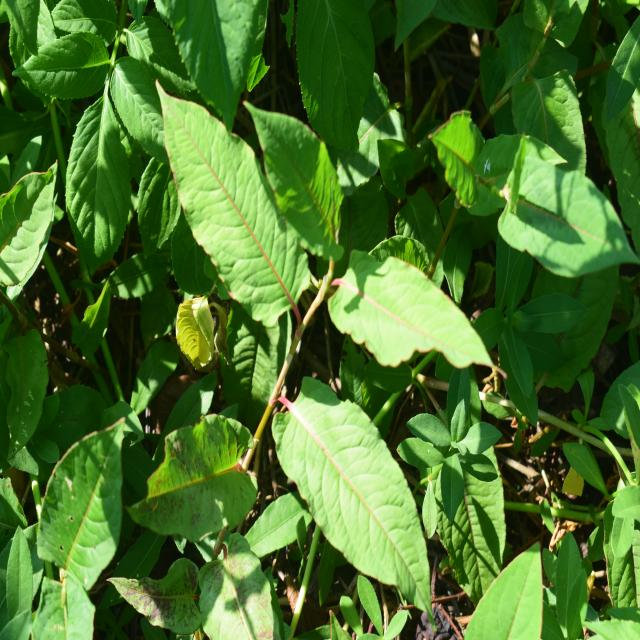Chinese_knotweed: (170, 97, 498, 387)
